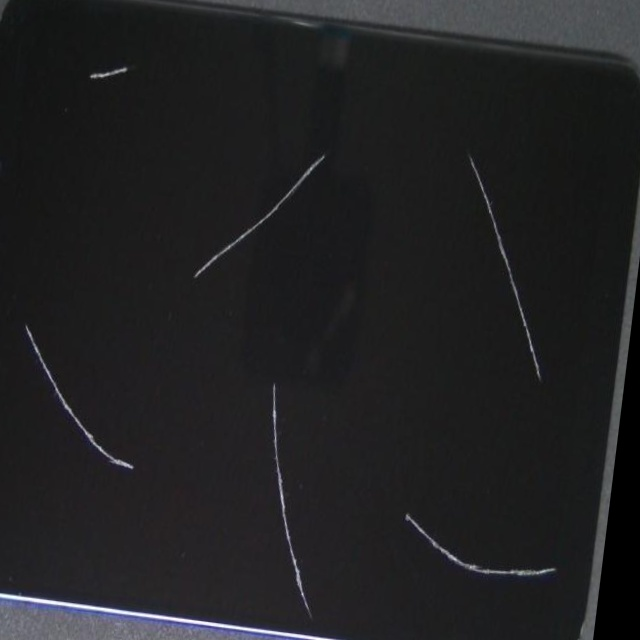scratch: (270, 219, 640, 640), (125, 286, 557, 640), (144, 63, 530, 289), (306, 257, 635, 462)
